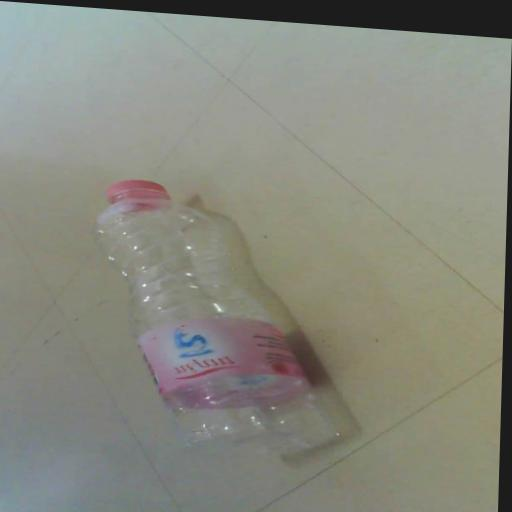bottle: (87, 175, 358, 456)
